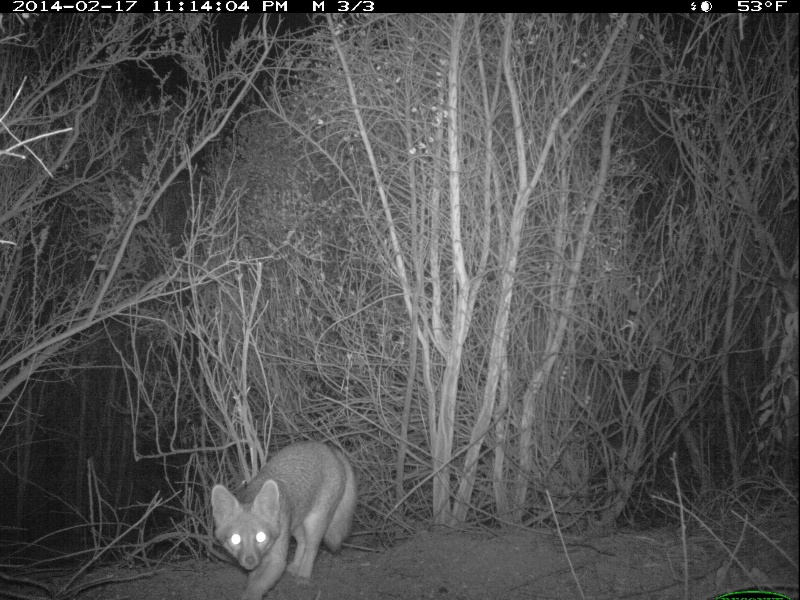fox: (201, 436, 356, 600)
